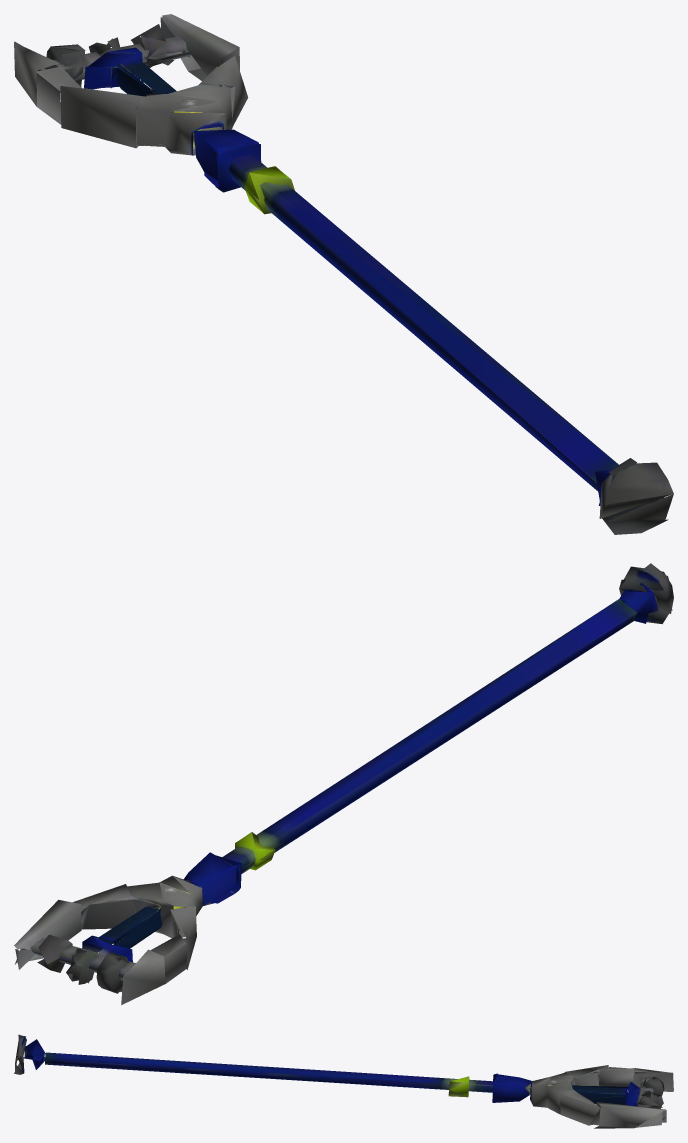
The model's file is m_spear_lod1.fbx.
The picture shows the model from 3 angles, top to bottom: view 1: azimuth 30°, elevation 25°; view 2: azimuth 150°, elevation 25°; view 3: azimuth 270°, elevation 25°; orthographic projection. The views are drawn at different scales.
Visible parts, largest first — view 1: tripo_node_7da02371-e5bc-4624-83f3-6651042ab6c5; view 2: tripo_node_7da02371-e5bc-4624-83f3-6651042ab6c5; view 3: tripo_node_7da02371-e5bc-4624-83f3-6651042ab6c5.
Boxes of the visible parts, left/top/right/bottom form: tripo_node_7da02371-e5bc-4624-83f3-6651042ab6c5: left=14, top=14, right=673, bottom=534; tripo_node_7da02371-e5bc-4624-83f3-6651042ab6c5: left=14, top=563, right=673, bottom=1005; tripo_node_7da02371-e5bc-4624-83f3-6651042ab6c5: left=14, top=1034, right=673, bottom=1128.
Size of the model in its own units: 0.4354 by 0.2029 by 2.28.
